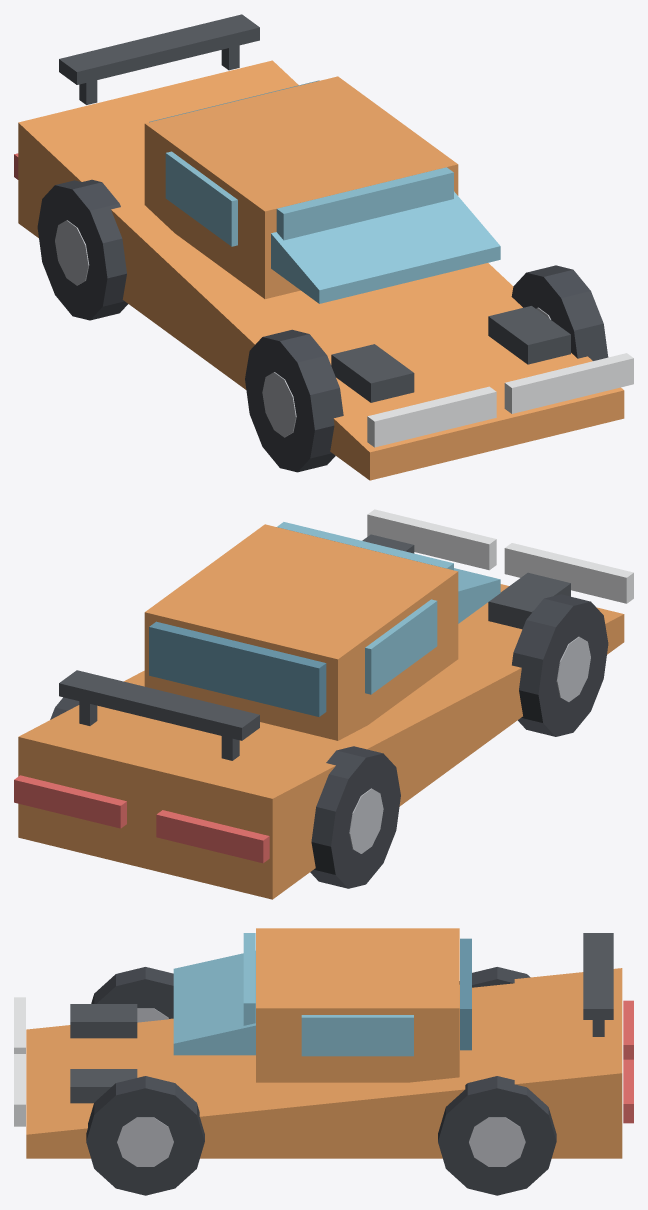
The model's file is player_supercar_orange.glb.
3 renders of one model, top to bottom at view 1: azimuth 30°, elevation 25°; view 2: azimuth 150°, elevation 25°; view 3: azimuth 270°, elevation 25°, orthographic. The views are drawn at different scales.
Parts seen in each view (by area): view 1: body_0, roof_1, super_windshield_21, wheel_FL_6, wheel_RL_10, windshield_2, spoiler_18, wheel_FR_8, headlight_R_15, headlight_L_14, side_glass_L_4, intake_L_22 (+3 smaller); view 2: body_0, roof_1, rear_glass_3, wheel_FL_6, wheel_RL_10, spoiler_18, headlight_R_15, headlight_L_14, side_glass_L_4, taillight_L_16, taillight_R_17, intake_L_22 (+4 smaller); view 3: body_0, roof_1, wheel_FR_8, wheel_RR_12, super_windshield_21, side_glass_R_5, wheel_FL_6, spoiler_18, intake_L_22, rim_RR_13, rim_FR_9, intake_R_23 (+7 smaller).
Boxes of the visible parts, x1=… form: body_0: x1=18, y1=60, x2=624, y2=480; roof_1: x1=144, y1=76, x2=458, y2=298; super_windshield_21: x1=271, y1=191, x2=500, y2=303; wheel_FL_6: x1=245, y1=329, x2=343, y2=472; wheel_RL_10: x1=37, y1=179, x2=127, y2=320; windshield_2: x1=276, y1=167, x2=453, y2=240; spoiler_18: x1=59, y1=14, x2=259, y2=84; wheel_FR_8: x1=511, y1=265, x2=608, y2=360; headlight_R_15: x1=504, y1=353, x2=633, y2=413; headlight_L_14: x1=367, y1=386, x2=496, y2=447; side_glass_L_4: x1=165, y1=151, x2=237, y2=246; intake_L_22: x1=331, y1=344, x2=414, y2=402; body_0: x1=18, y1=584, x2=624, y2=899; roof_1: x1=144, y1=524, x2=458, y2=740; rear_glass_3: x1=149, y1=621, x2=326, y2=716; wheel_FL_6: x1=512, y1=594, x2=608, y2=736; wheel_RL_10: x1=310, y1=746, x2=400, y2=888; spoiler_18: x1=59, y1=670, x2=259, y2=740; headlight_R_15: x1=367, y1=509, x2=496, y2=570; headlight_L_14: x1=504, y1=543, x2=633, y2=603; side_glass_L_4: x1=365, y1=599, x2=437, y2=694; taillight_L_16: x1=156, y1=810, x2=269, y2=863; taillight_R_17: x1=14, y1=775, x2=126, y2=828; intake_L_22: x1=488, y1=572, x2=570, y2=629; body_0: x1=26, y1=968, x2=622, y2=1158; roof_1: x1=256, y1=928, x2=459, y2=1082; wheel_FR_8: x1=86, y1=1076, x2=204, y2=1195; wheel_RR_12: x1=438, y1=1076, x2=556, y2=1195; super_windshield_21: x1=173, y1=951, x2=255, y2=1055; side_glass_R_5: x1=301, y1=1015, x2=413, y2=1056; wheel_FL_6: x1=91, y1=967, x2=173, y2=1018; spoiler_18: x1=583, y1=933, x2=613, y2=1019; intake_L_22: x1=70, y1=1004, x2=137, y2=1038; rim_RR_13: x1=469, y1=1117, x2=525, y2=1166; rim_FR_9: x1=117, y1=1117, x2=173, y2=1166; intake_R_23: x1=70, y1=1069, x2=137, y2=1103.
Bounding box in the file's own units: 1.9 × 1.21 × 4.08.
